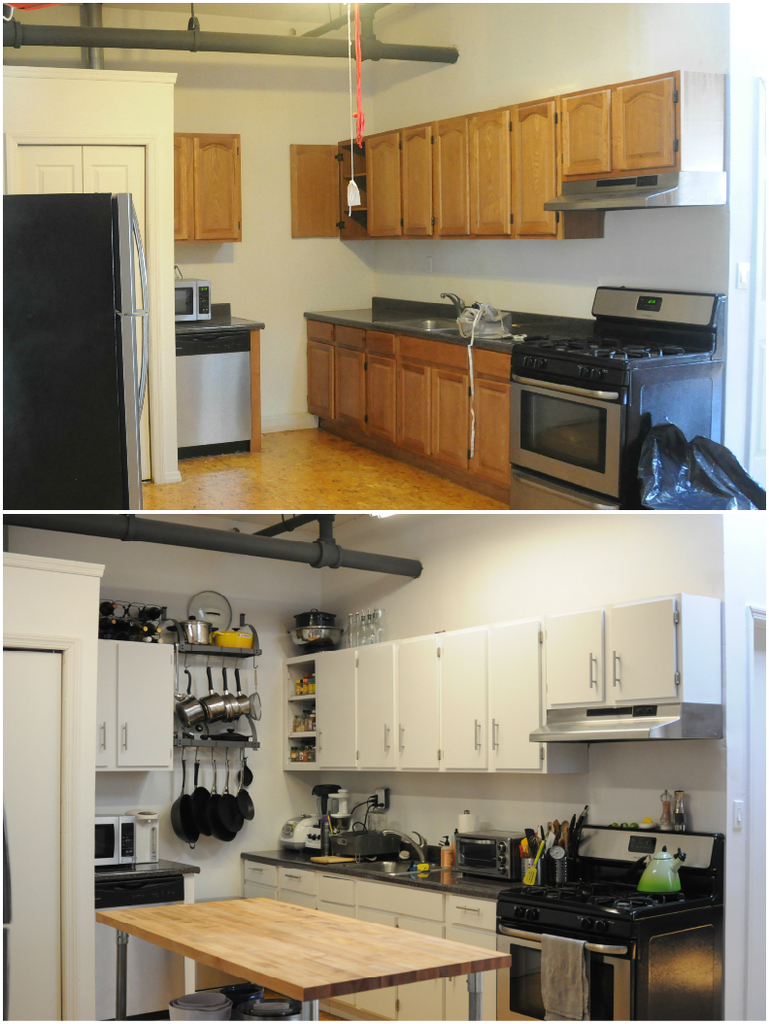cabinet door: (487, 636, 536, 771), (117, 649, 172, 764), (604, 612, 678, 697), (608, 81, 679, 162), (437, 649, 486, 759), (509, 111, 555, 225), (311, 653, 357, 764), (287, 145, 339, 242), (397, 643, 436, 765), (195, 139, 242, 238), (466, 125, 509, 232), (551, 623, 603, 707), (466, 384, 511, 479), (562, 98, 612, 182), (357, 651, 394, 761), (363, 144, 404, 235), (400, 135, 436, 238), (432, 128, 468, 230), (398, 353, 430, 459), (433, 368, 466, 469), (366, 354, 398, 447), (94, 640, 117, 767), (170, 131, 195, 239), (335, 344, 365, 434), (446, 889, 500, 930), (307, 338, 333, 421), (279, 869, 311, 889), (246, 860, 276, 880)
door: (5, 650, 58, 1017), (753, 643, 769, 997)
handle: (515, 367, 618, 414), (125, 191, 148, 311), (127, 316, 150, 421), (454, 896, 487, 922), (609, 651, 622, 688), (99, 718, 112, 752), (489, 714, 501, 750), (395, 718, 408, 750), (587, 651, 598, 686), (470, 725, 484, 751), (284, 870, 305, 887), (118, 722, 130, 750), (381, 724, 393, 751), (248, 866, 264, 878)
refrigerator door: (119, 314, 144, 513), (115, 186, 135, 307)
